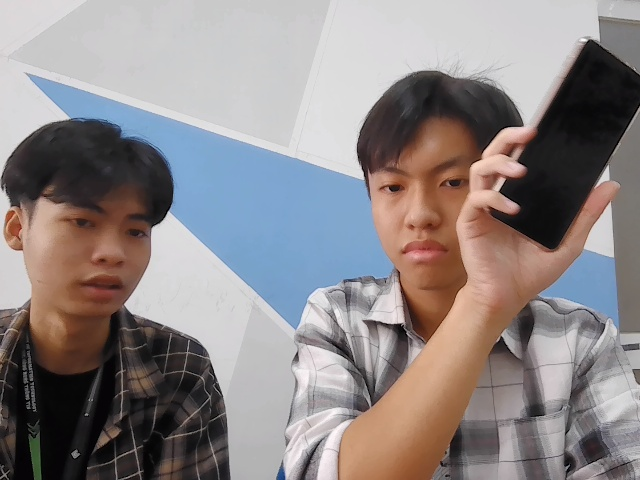human: (362, 73, 543, 306), (4, 115, 174, 320)
phone: (478, 15, 637, 264)
